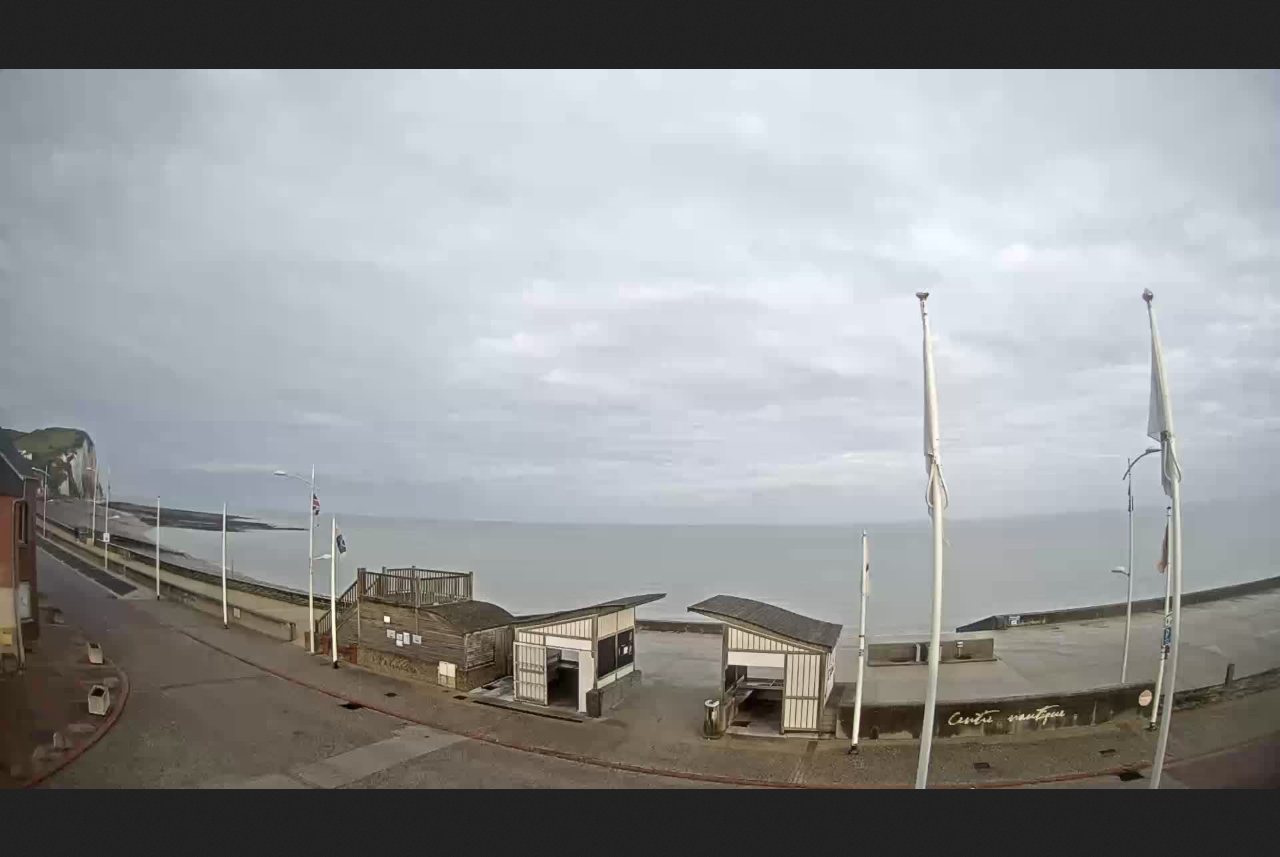maybe: (328, 518, 350, 561), (311, 489, 321, 516)
no: (1143, 312, 1182, 505), (917, 316, 953, 521)
